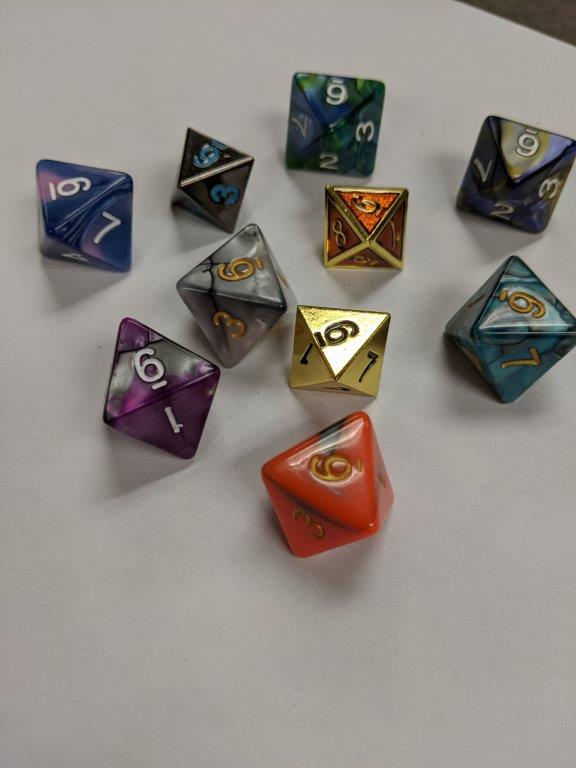d8-6: (442, 254, 576, 403), (261, 410, 395, 555), (102, 317, 220, 462), (174, 223, 292, 364), (455, 113, 576, 234), (32, 158, 136, 276), (285, 70, 385, 177), (288, 304, 393, 402), (170, 122, 255, 238), (323, 182, 410, 271)
